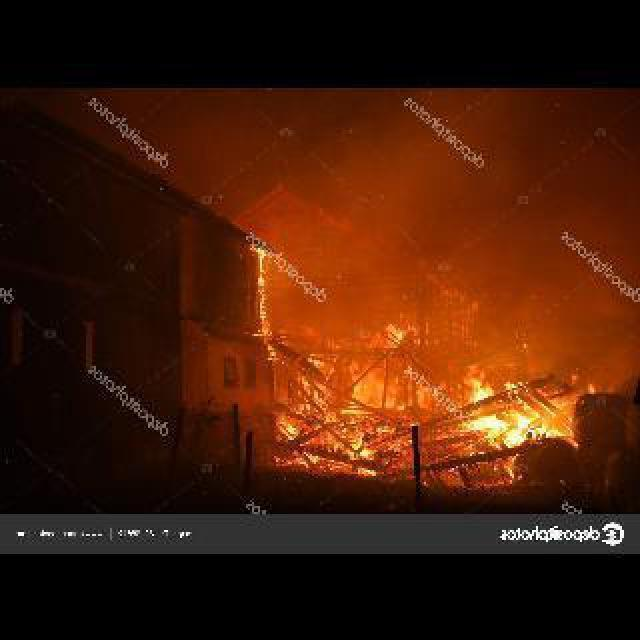Fire: (270, 280, 572, 476)
